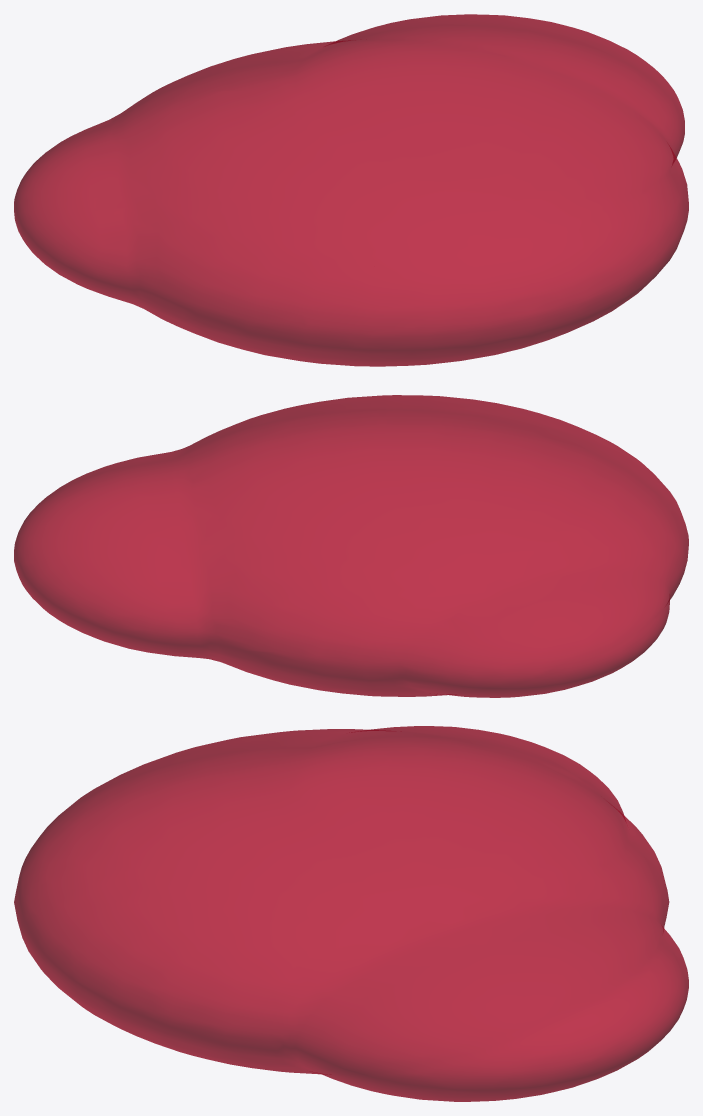
File: marmelade.glb
The picture shows the model from 3 angles, top to bottom: view 1: azimuth 30°, elevation 25°; view 2: azimuth 150°, elevation 25°; view 3: azimuth 270°, elevation 25°; orthographic projection. The views are drawn at different scales.
Parts seen in each view (by area): view 1: p0; view 2: p0; view 3: p0.
Boxes of the visible parts, <box> form: p0: <box>14,14,688,366</box>; p0: <box>14,395,688,697</box>; p0: <box>14,726,688,1101</box>.
Bounding box in the file's own units: 0.0378 × 0.0111 × 0.0328.
